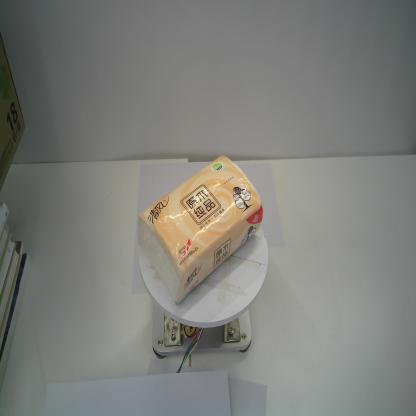Tissue: (138, 155, 263, 307)
